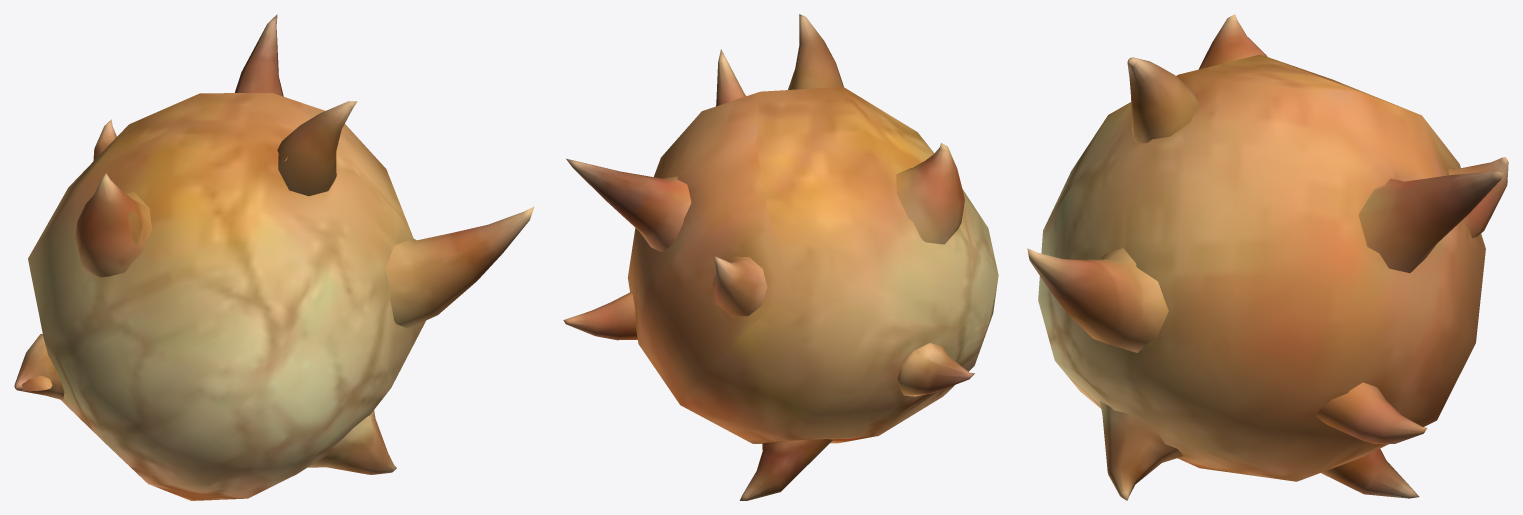
3 views of the same model, side by side, from view 1: azimuth 30°, elevation 25°; view 2: azimuth 150°, elevation 25°; view 3: azimuth 270°, elevation 25° (orthographic). The views are drawn at different scales.
Parts seen in each view (by area): view 1: SM_Exploding_Plant_Trap_Flower_02_LOD0; view 2: SM_Exploding_Plant_Trap_Flower_02_LOD0; view 3: SM_Exploding_Plant_Trap_Flower_02_LOD0.
Boxes of the visible parts, box(x1,y1,x2,y2) form: SM_Exploding_Plant_Trap_Flower_02_LOD0: box(14, 14, 534, 500); SM_Exploding_Plant_Trap_Flower_02_LOD0: box(563, 14, 998, 500); SM_Exploding_Plant_Trap_Flower_02_LOD0: box(1027, 14, 1508, 500).
Bounding box in the file's own units: 0.5332 × 0.5445 × 0.5006.
